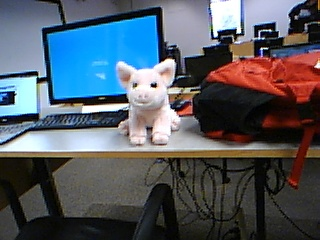piggy: (114, 57, 183, 146)
